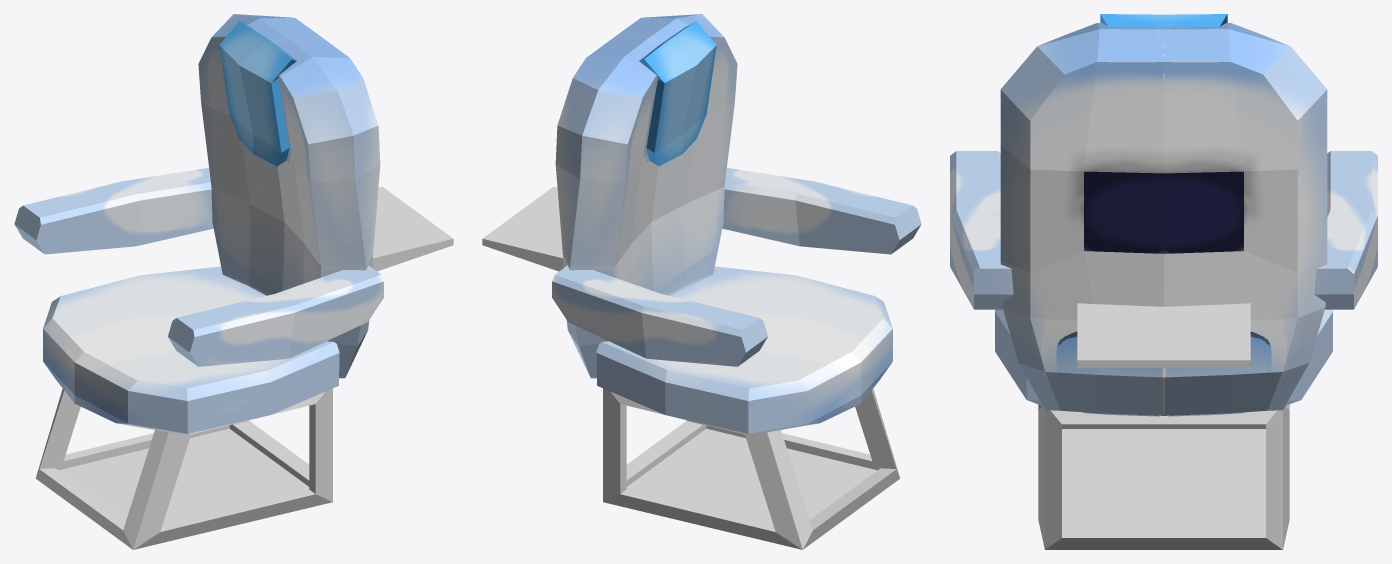
The model's file is ChairNew.fbx.
The picture shows the model from 3 angles, left to right: view 1: azimuth 30°, elevation 25°; view 2: azimuth 150°, elevation 25°; view 3: azimuth 270°, elevation 25°; orthographic projection. The views are drawn at different scales.
Visible parts, largest first — view 1: Cube, Cube.001, Cube.002; view 2: Cube, Cube.001, Cube.002; view 3: Cube, Cube.001, Cube.002.
Part boxes in pixels (<box>): Cube: <box>14,14,383,433</box>; Cube.001: <box>35,388,332,549</box>; Cube.002: <box>372,186,453,271</box>; Cube: <box>552,14,921,433</box>; Cube.001: <box>603,388,900,549</box>; Cube.002: <box>482,186,563,271</box>; Cube: <box>950,14,1377,417</box>; Cube.001: <box>1038,404,1289,549</box>; Cube.002: <box>1077,303,1250,367</box>.
Size of the model in its own units: 299 by 358 by 265.
Materials: 1 (1 with a texture image).
